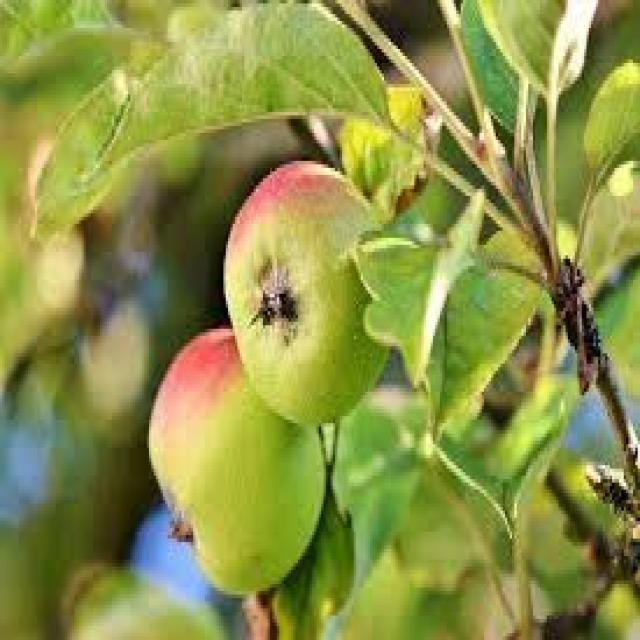Apple: (147, 325, 326, 595), (221, 157, 391, 427), (58, 560, 224, 636)
